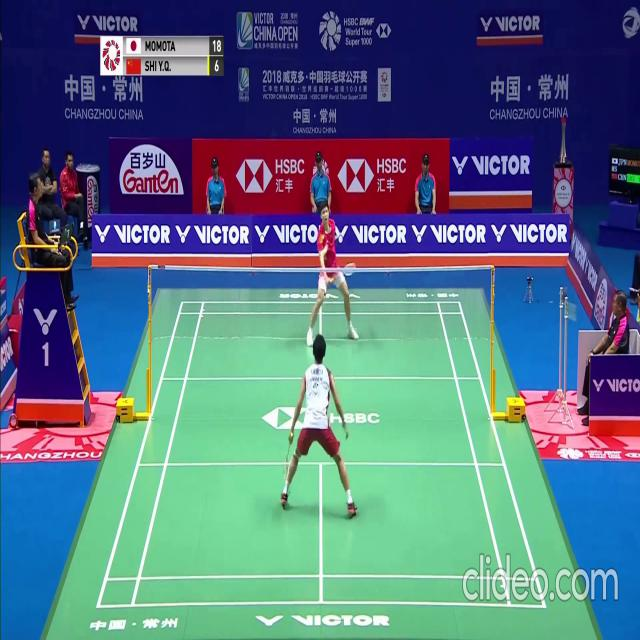Shuttlecock: (323, 247, 328, 254)
